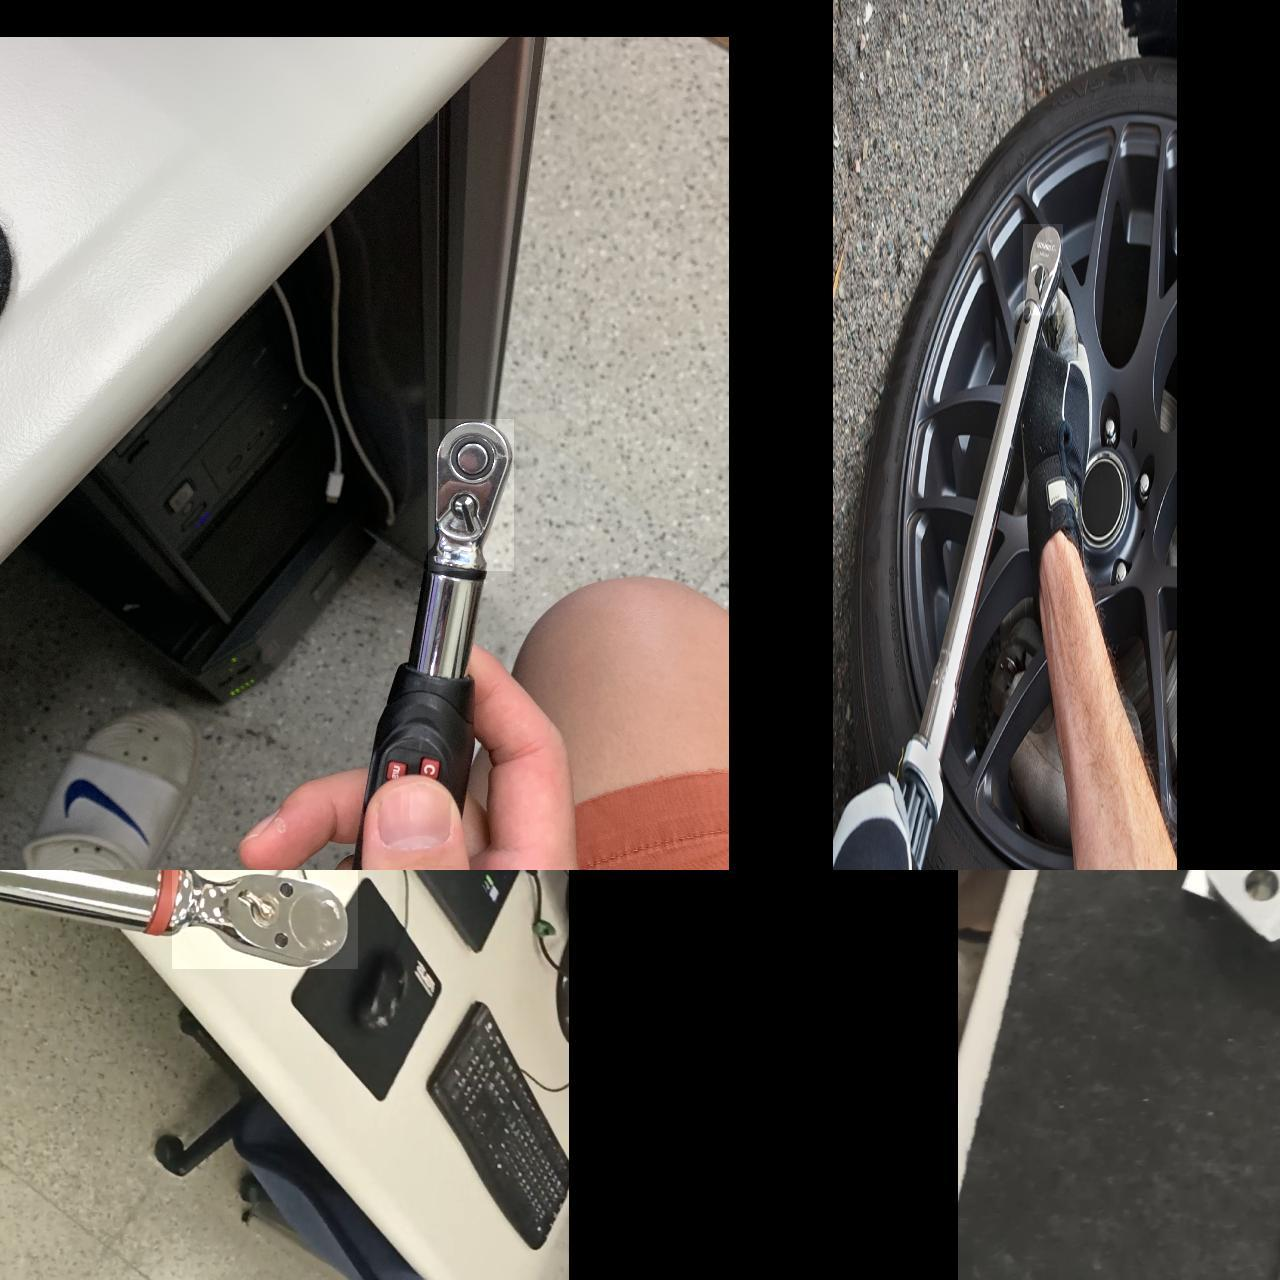Tool: (171, 870, 358, 969), (427, 418, 513, 571), (1022, 224, 1062, 315)
